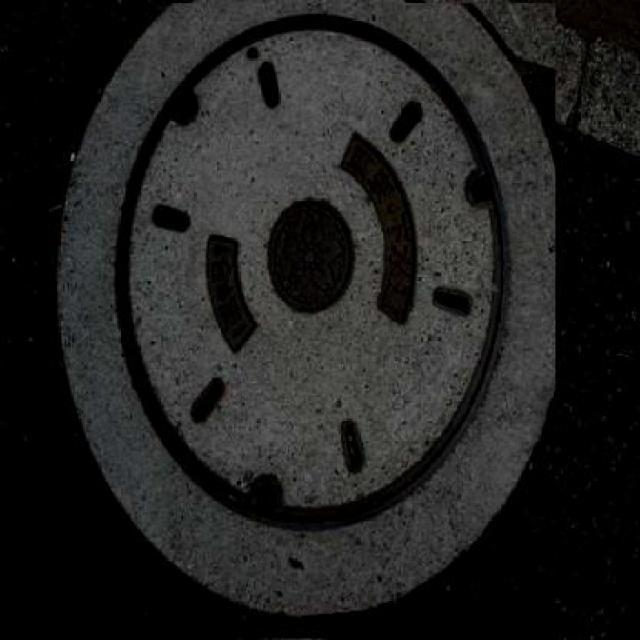Manhole: (38, 3, 557, 639)
